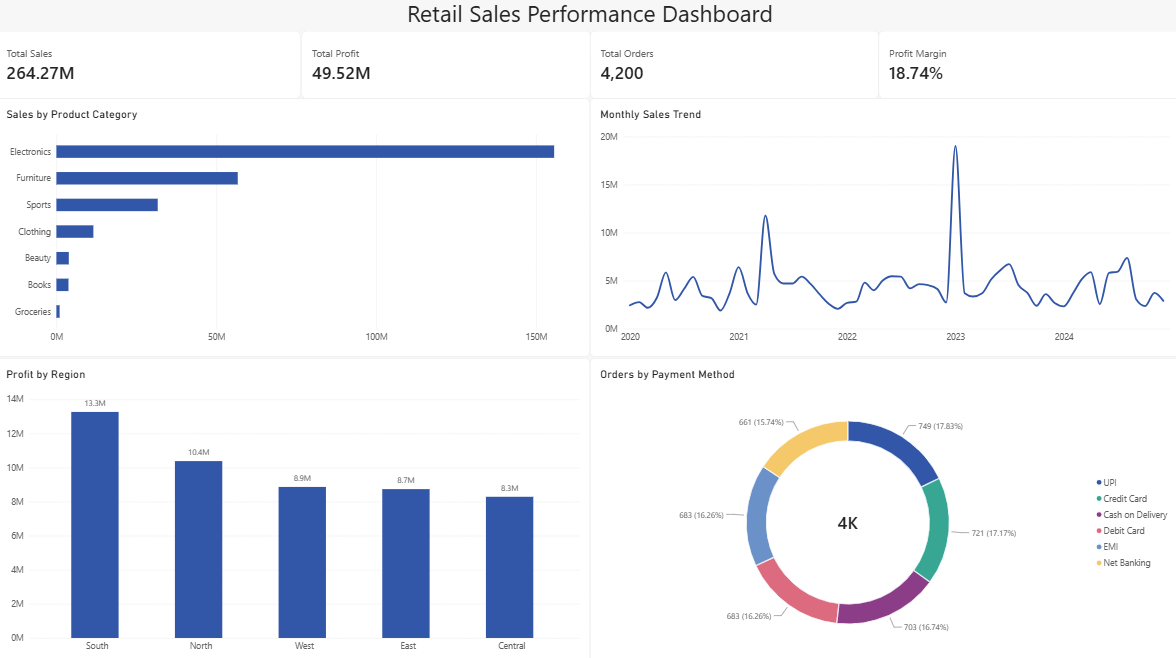

The dashboard page shown, as its layout file describes it:
{"tool":"powerbi","page":{"name":"Page 1","canvas":[1920,1080],"ordinal":0},"visuals":[{"type":"cardVisual","fields":{"Data":["Cleaned_Sales_Data.Total Sales"]},"box":[0,55,492.5,110],"z":0},{"type":"cardVisual","fields":{"Data":["Cleaned_Sales_Data.Total Profit"]},"box":[492.5,55,467.5,110],"z":1000},{"type":"cardVisual","fields":{"Data":["Cleaned_Sales_Data.Total Orders"]},"box":[960,55,467.5,110],"z":2000},{"type":"cardVisual","fields":{"Data":["Cleaned_Sales_Data.Profit Margin"]},"box":[1427.5,55,492.5,110],"z":3000},{"type":"clusteredBarChart","title":"Sales by Product Category","fields":{"Category":["Cleaned_Sales_Data.product_category"],"Y":["Cleaned_Sales_Data.Total Sales"]},"box":[0,165,960,417.5],"z":4000},{"type":"lineChart","title":"Monthly Sales Trend","fields":{"Category":["Cleaned_Sales_Data.order_date.Variation.Date Hierarchy.Year","Cleaned_Sales_Data.order_date.Variation.Date Hierarchy.Month"],"Y":["Cleaned_Sales_Data.Total Sales"]},"box":[960,165,960,417.5],"z":5000},{"type":"clusteredColumnChart","title":"Profit by Region","fields":{"Category":["Cleaned_Sales_Data.region"],"Y":["Sum(Cleaned_Sales_Data.profit)"]},"box":[0,582.5,960,497.5],"z":6000},{"type":"donutChart","title":"Orders by Payment Method","fields":{"Category":["Cleaned_Sales_Data.payment_method"],"Y":["Cleaned_Sales_Data.Total Orders"]},"box":[960,582.5,960,497.5],"z":6001},{"type":"textbox","box":[0,0,1920,55],"z":6002}]}

Visuals, with their boxes in screenshot pixels (x1, y1, x2, y2), scaled from the page's 1920x1080 canvas onto the 1176x658 screenshot:
cardVisual - Cleaned_Sales_Data.Total Sales: select_region(0, 34, 302, 101)
cardVisual - Cleaned_Sales_Data.Total Profit: select_region(302, 34, 588, 101)
cardVisual - Cleaned_Sales_Data.Total Orders: select_region(588, 34, 874, 101)
cardVisual - Cleaned_Sales_Data.Profit Margin: select_region(874, 34, 1175, 101)
"Sales by Product Category" clusteredBarChart: select_region(0, 101, 588, 355)
"Monthly Sales Trend" lineChart: select_region(588, 101, 1175, 355)
"Profit by Region" clusteredColumnChart: select_region(0, 355, 588, 657)
"Orders by Payment Method" donutChart: select_region(588, 355, 1175, 657)
textbox: select_region(0, 0, 1175, 34)
